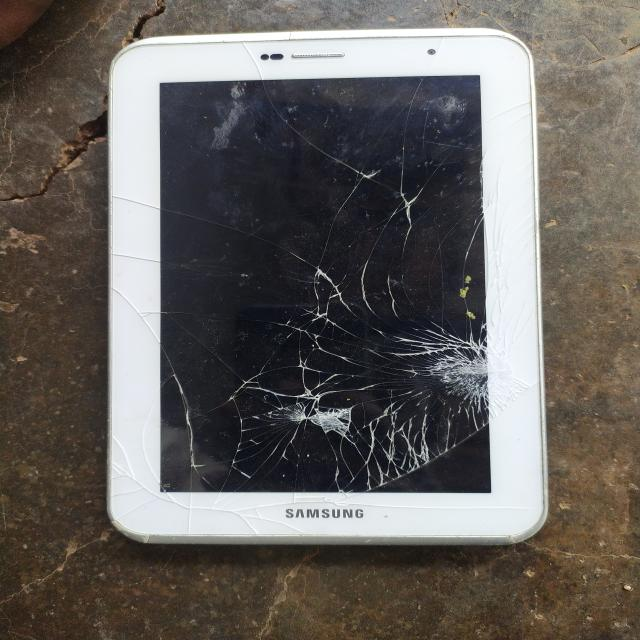Crack: (112, 43, 414, 536), (421, 120, 542, 312), (413, 310, 540, 473)
